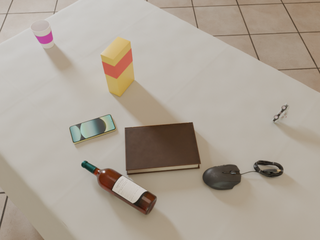book: (125, 122, 201, 175)
bottle: (81, 161, 157, 215)
box: (101, 37, 134, 96)
cup: (30, 20, 54, 48)
mouse: (203, 164, 242, 190)
phone: (69, 115, 116, 144)
toy_car: (272, 103, 289, 123)
